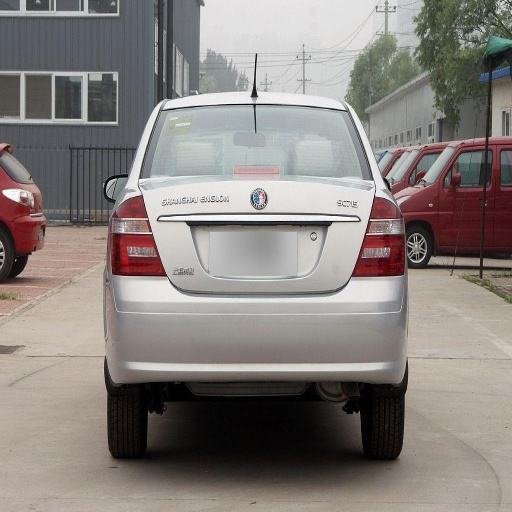back_bumper: (105, 265, 406, 397)
